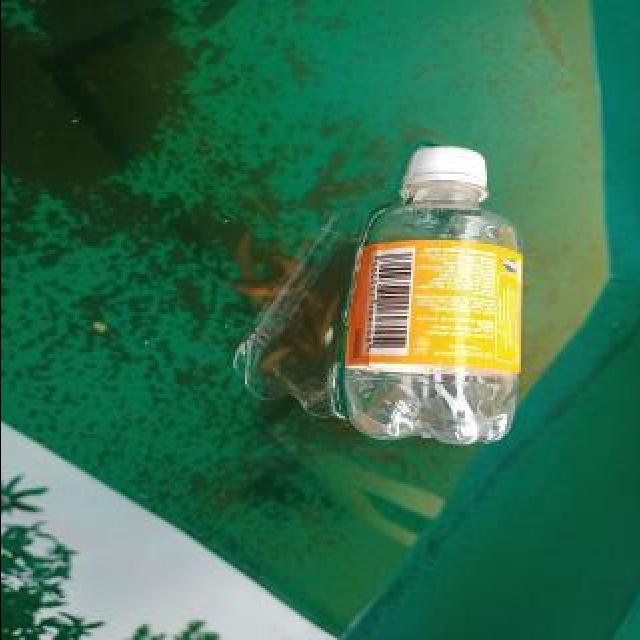Bottle: (332, 134, 530, 454)
